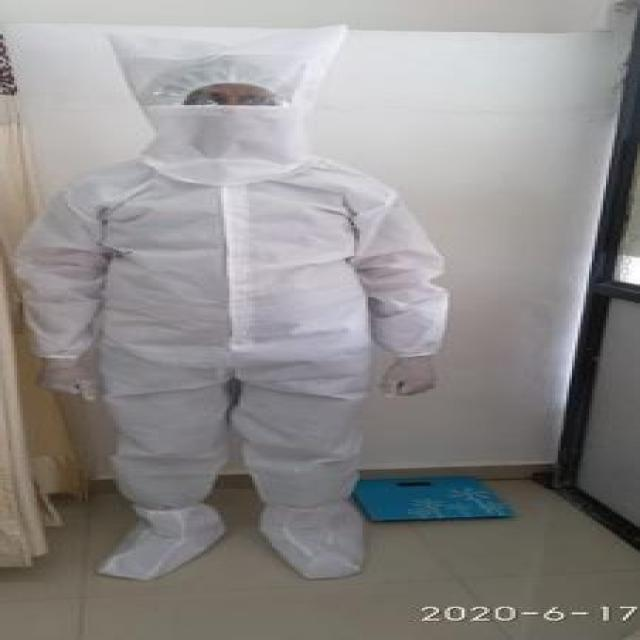Coverall: (9, 24, 462, 580)
Gloves: (31, 356, 105, 401), (377, 354, 439, 400)
